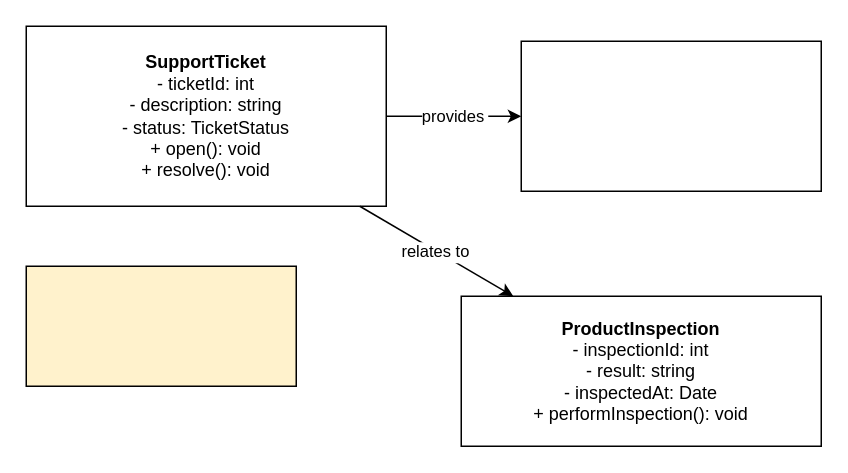
Some shapes in this 848 by 473 pixel diagram are drawn without their labels. The shapes that lost their labels are listed below. From the top down, each one's centre as x and y in pixels, then its label:
At point (670, 115): "CareGuide - guideId: int - content: string + display(): void".
At point (160, 325): "enum TicketStatus OPEN IN_PROGRESS RESOLVED".
